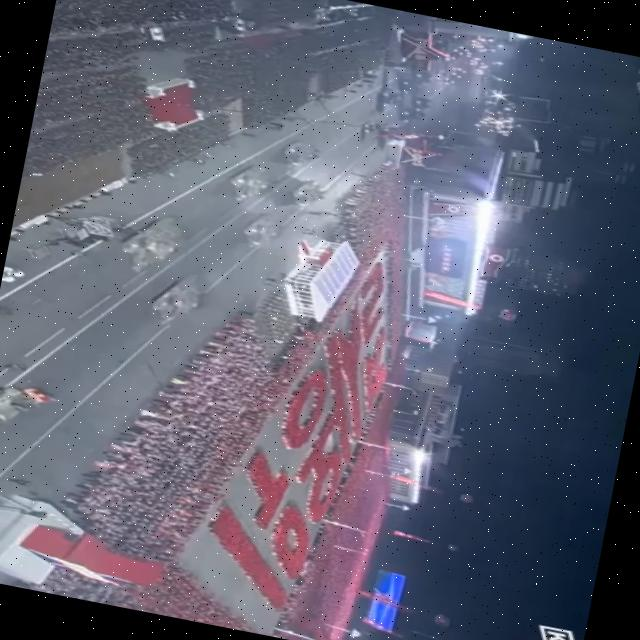north tank: (104, 202, 210, 292), (126, 268, 220, 342), (210, 156, 273, 219), (264, 128, 332, 175), (230, 209, 284, 263), (278, 174, 328, 217)
